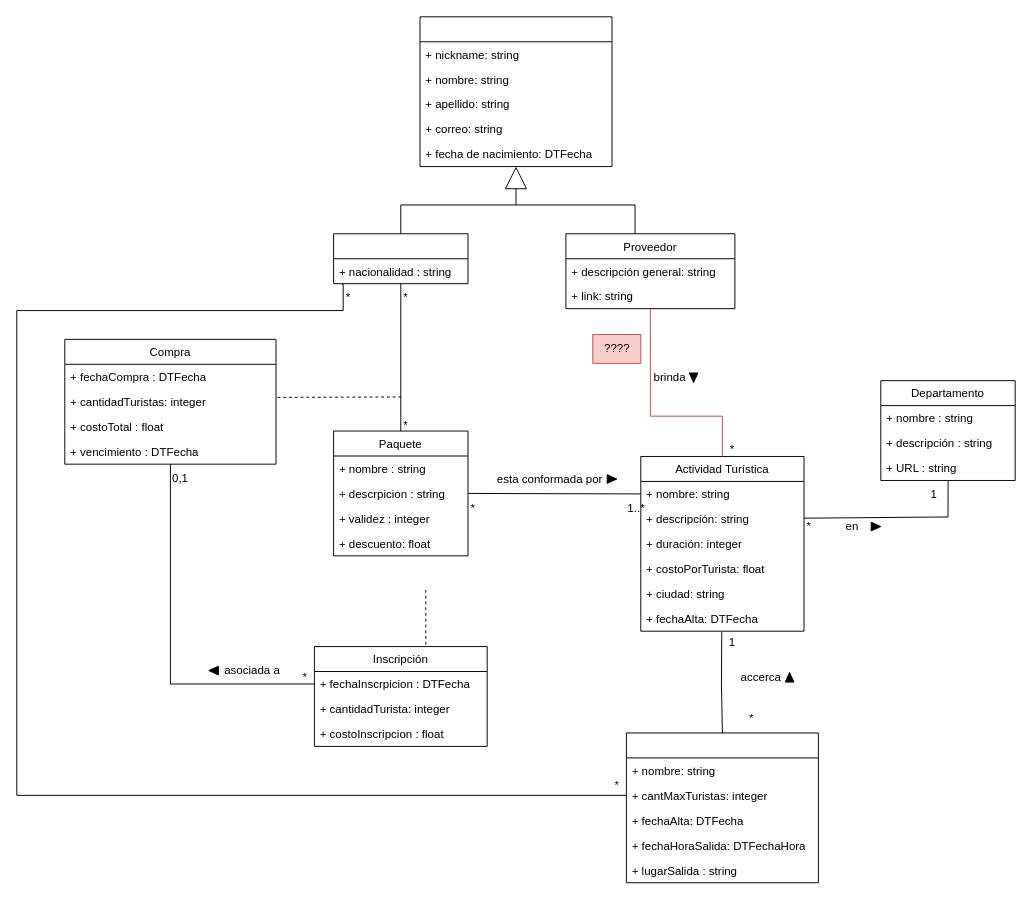
Image size: 1032x902. Some labels were removed from this diagram. Here are the shapes that lost their labels. From the top down, the box of each, then its label:
(419, 16, 612, 167): Usuario
(333, 233, 468, 284): Turista
(625, 732, 818, 883): Salida Turística
